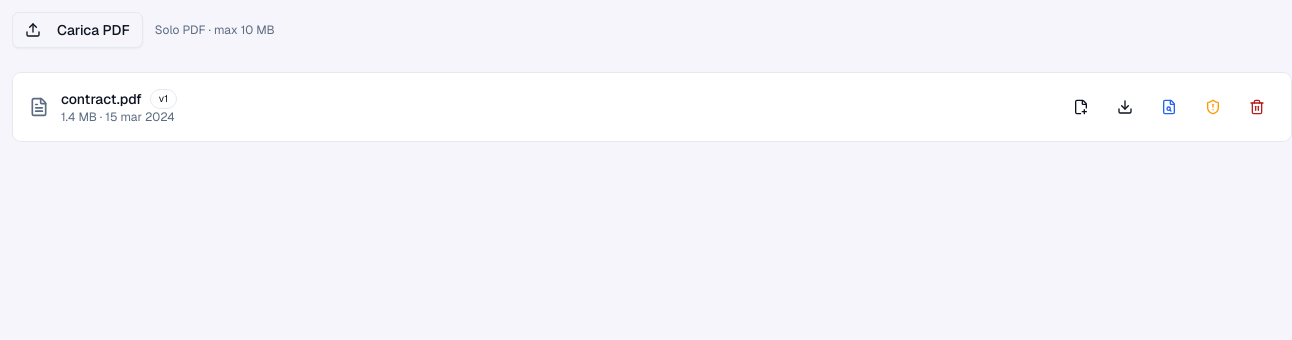
it: DocumentsTab › clause risk analysis › falls back to the LOW badge for an unrecognized risk level from the API
Click the button titled "Rileva clausole a rischio" at coordinates (1213, 107), box [1195, 91, 1231, 123]
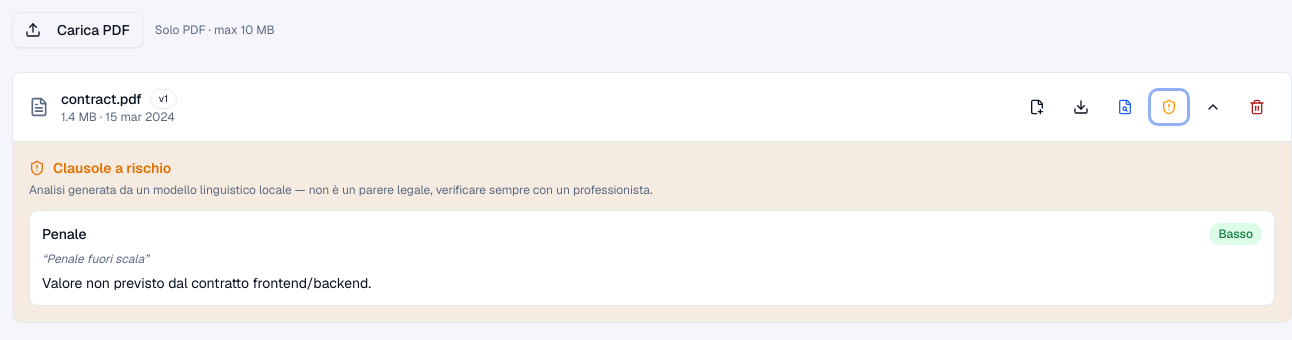
Result: the text "Penale" is shown at [42, 224, 86, 244]
Result: the text "Basso" is shown at [1209, 223, 1262, 245]
